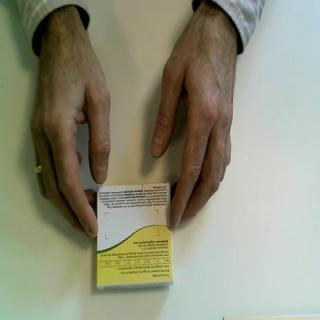buprefarm5ug_hour: (95, 181, 175, 291)
